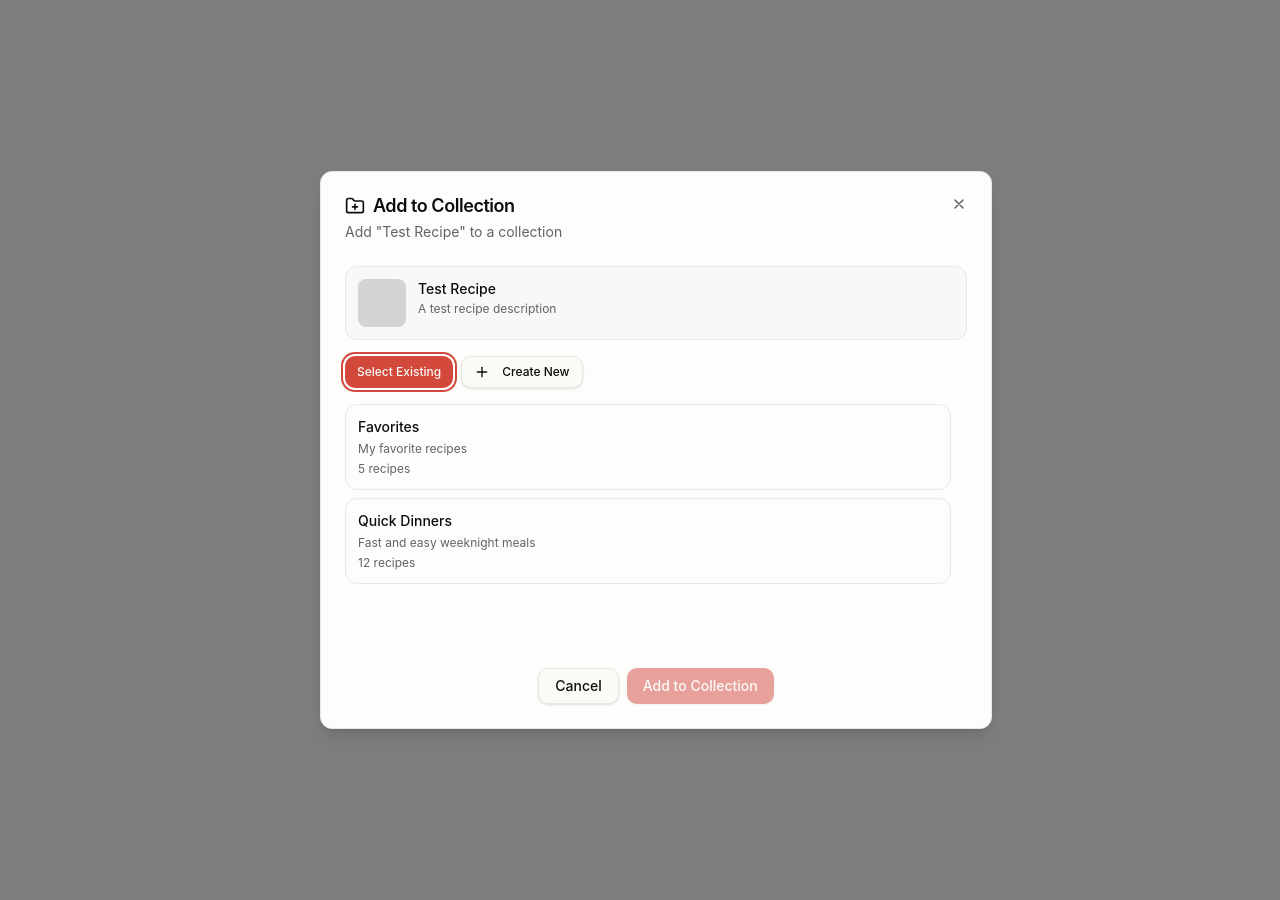
Scenario: AddToCollectionModal › Create New Collection Mode › should switch to create mode when clicking Create New button
Click the button "Create New".
click(522, 372)  # box [461,356,583,388]
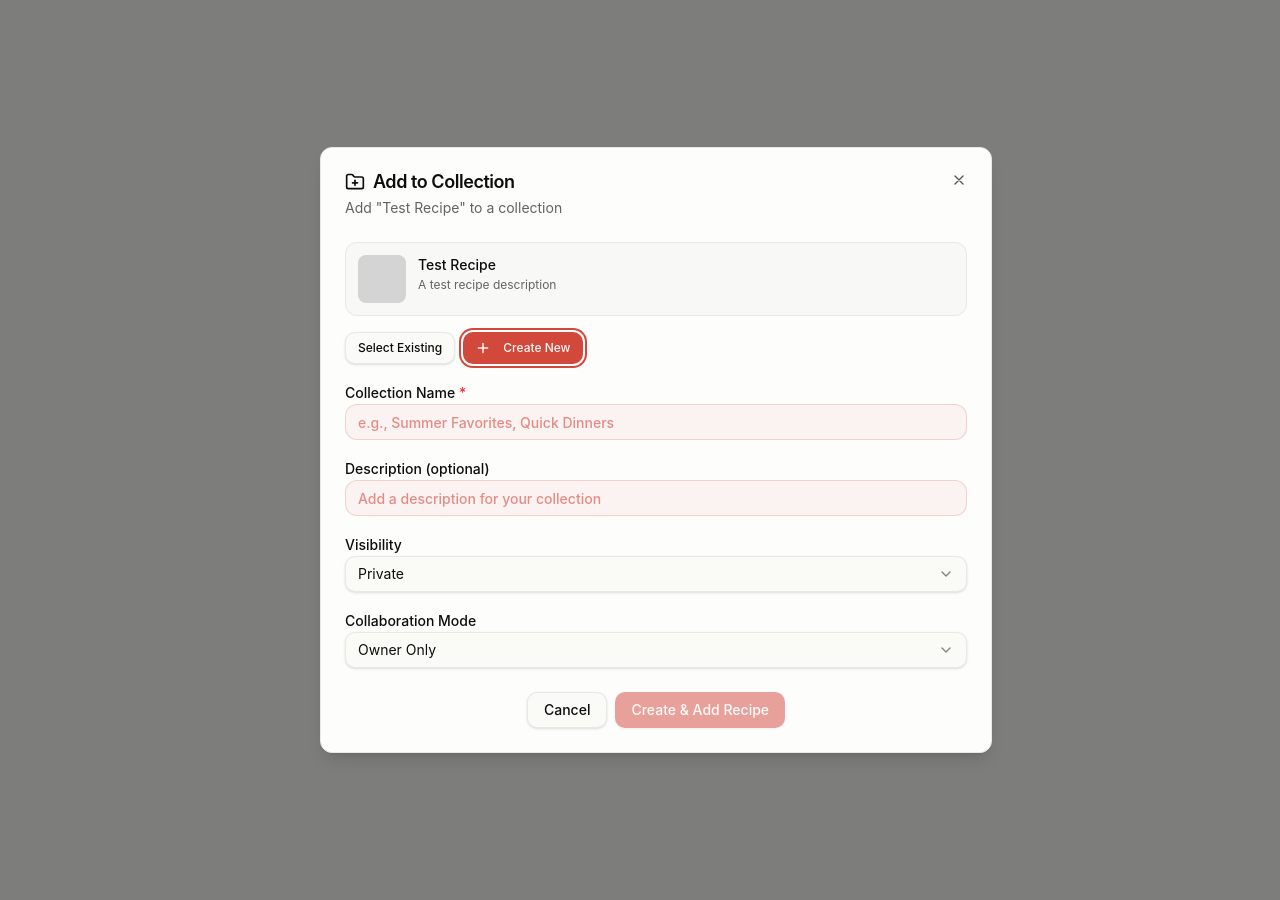
Expected: the field labelled "Collection Name *" is shown, [345,404,967,440]
Expected: the field labelled "Description (optional)" is shown, [345,480,967,516]
Expected: the dropdown named "visibility" is shown, [345,556,967,592]
